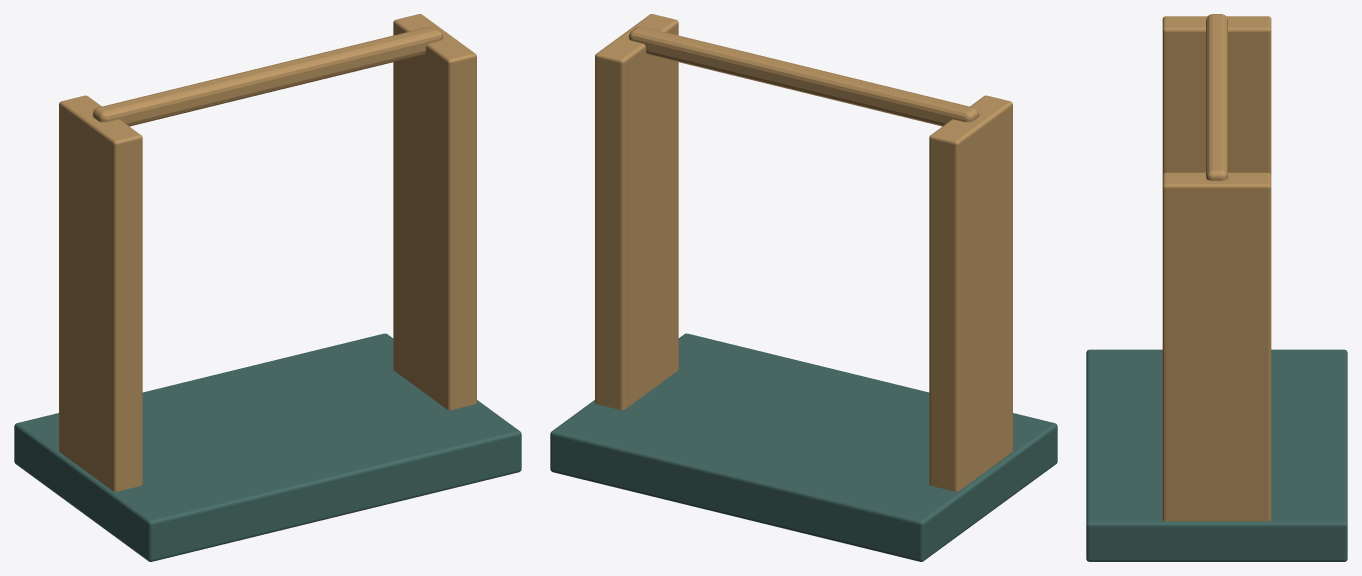
Rendered from fulcrum.glb.
3 renders of one model, left to right at view 1: azimuth 30°, elevation 25°; view 2: azimuth 150°, elevation 25°; view 3: azimuth 270°, elevation 25°, orthographic. The views are drawn at different scales.
Visible parts, largest first — view 1: fulcrum; view 2: fulcrum; view 3: fulcrum.
Boxes of the visible parts, x1,y1,x2,y2 form: fulcrum: (14, 14, 521, 561); fulcrum: (550, 14, 1057, 561); fulcrum: (1086, 14, 1347, 561).
Size of the model in its own units: 0.038 by 0.0388 by 0.024.
